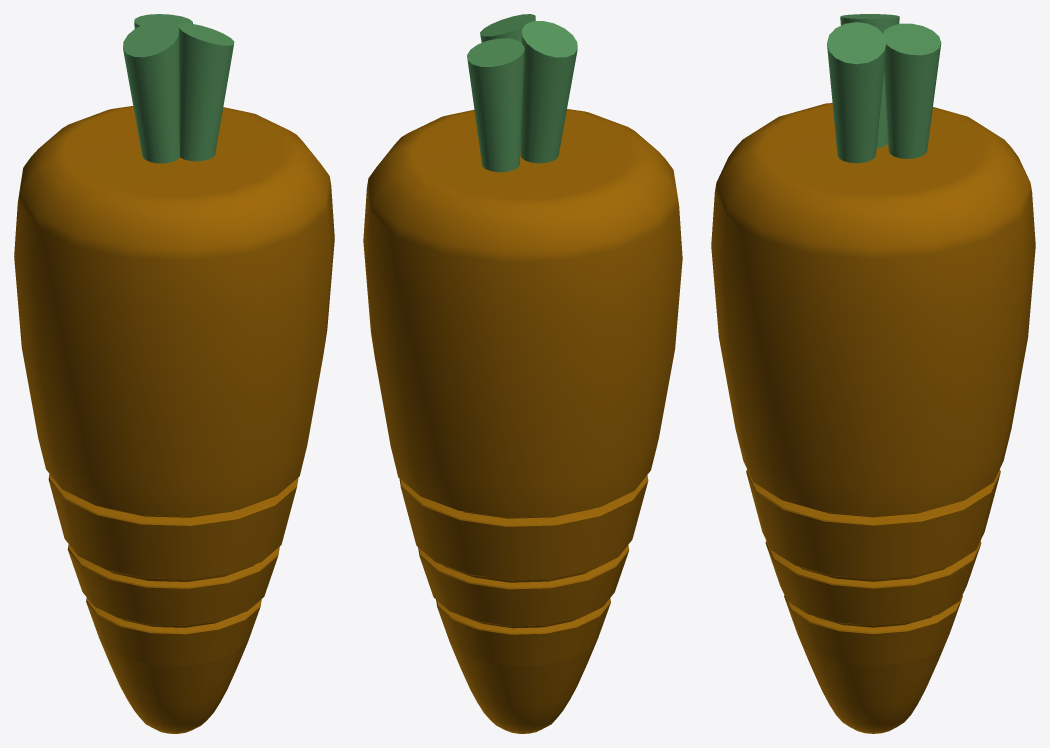
Rendered from carrot.fbx.
3 views of the same model, side by side, from view 1: azimuth 30°, elevation 25°; view 2: azimuth 150°, elevation 25°; view 3: azimuth 270°, elevation 25° (orthographic).
Visible parts, largest first — view 1: carrotFlesh, stalk2, stalk3; view 2: carrotFlesh, stalk2, stalk1, stalk3; view 3: carrotFlesh, stalk3, stalk1, stalk2.
Part boxes in pixels (left/top/right/bottom): carrotFlesh: left=14, top=106, right=334, bottom=733; stalk2: left=123, top=20, right=179, bottom=163; stalk3: left=178, top=23, right=234, bottom=161; carrotFlesh: left=363, top=109, right=682, bottom=733; stalk2: left=520, top=21, right=577, bottom=163; stalk1: left=467, top=38, right=524, bottom=172; stalk3: left=480, top=14, right=535, bottom=150; carrotFlesh: left=711, top=103, right=1035, bottom=733; stalk3: left=827, top=22, right=886, bottom=163; stalk1: left=883, top=23, right=941, bottom=158; stalk2: left=840, top=14, right=899, bottom=148.
Bounding box in the file's own units: 2.02 × 4.87 × 2.02.
